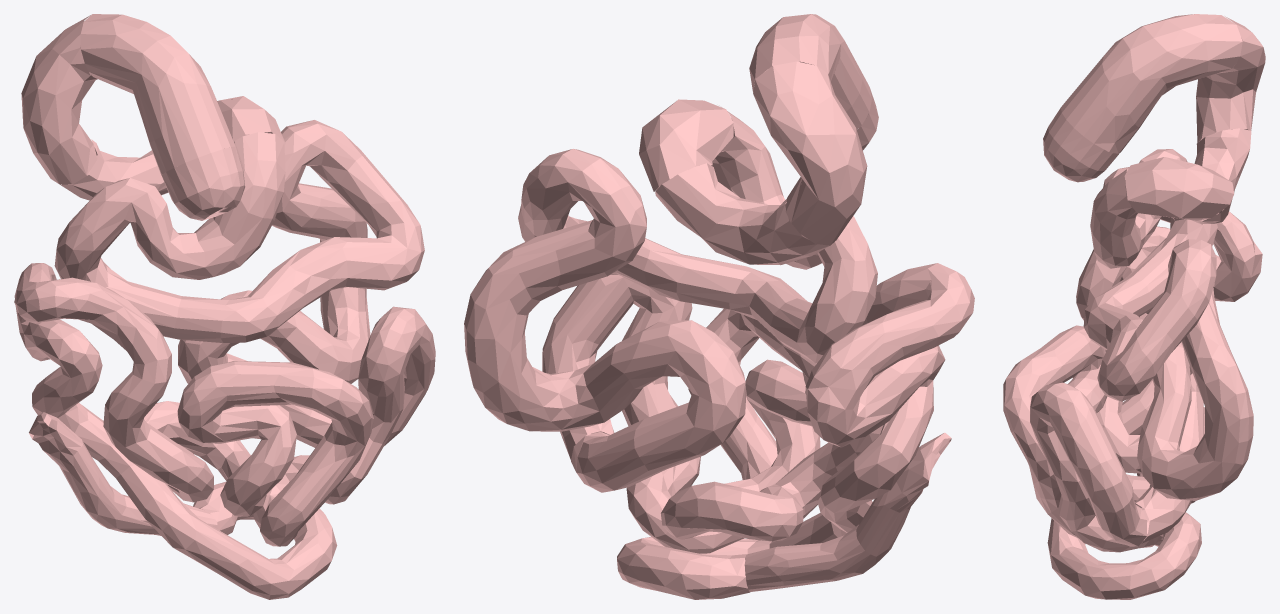
Rendered from VH_F_Small_Intestine_0.2.glb.
3 views of the same model, side by side, from view 1: azimuth 30°, elevation 25°; view 2: azimuth 150°, elevation 25°; view 3: azimuth 270°, elevation 25° (orthographic). The views are drawn at different scales.
Parts seen in each view (by area): view 1: VH_F_ileum, VH_F_jejenum, VH_F_duodenum_superior, VH_F_duodenum_descending, VH_F_ileum_terminal, VH_F_duodenal_ampulla, VH_F_duodenum_horizontal, VH_F_duodenum_ascending; view 2: VH_F_ileum, VH_F_jejenum, VH_F_duodenum_descending, VH_F_ileum_terminal, VH_F_duodenum_horizontal, VH_F_duodenum_superior, VH_F_duodenum_ascending; view 3: VH_F_jejenum, VH_F_ileum, VH_F_duodenum_superior, VH_F_duodenum_ascending, VH_F_duodenum_descending, VH_F_duodenal_ampulla, VH_F_duodenum_horizontal.
Boxes of the visible parts, <box> form: VH_F_ileum: <box>14,263,435,599</box>; VH_F_jejenum: <box>54,120,424,447</box>; VH_F_duodenum_superior: <box>80,14,235,175</box>; VH_F_duodenum_descending: <box>21,15,97,184</box>; VH_F_ileum_terminal: <box>29,412,217,535</box>; VH_F_duodenal_ampulla: <box>161,146,245,220</box>; VH_F_duodenum_horizontal: <box>60,139,168,200</box>; VH_F_duodenum_ascending: <box>217,96,285,144</box>; VH_F_ileum: <box>542,263,974,599</box>; VH_F_jejenum: <box>464,105,877,492</box>; VH_F_duodenum_descending: <box>753,61,867,245</box>; VH_F_ileum_terminal: <box>744,432,951,591</box>; VH_F_duodenum_horizontal: <box>655,163,829,265</box>; VH_F_duodenum_superior: <box>749,14,871,129</box>; VH_F_duodenum_ascending: <box>639,99,733,191</box>; VH_F_jejenum: <box>1083,149,1253,543</box>; VH_F_ileum: <box>1003,167,1262,599</box>; VH_F_duodenum_superior: <box>1060,14,1242,153</box>; VH_F_duodenum_ascending: <box>1124,157,1234,220</box>; VH_F_duodenum_descending: <box>1196,16,1265,142</box>; VH_F_duodenal_ampulla: <box>1043,108,1120,182</box>; VH_F_duodenum_horizontal: <box>1194,128,1251,223</box>.
Size of the model in its own units: 0.162 by 0.2174 by 0.0998.
